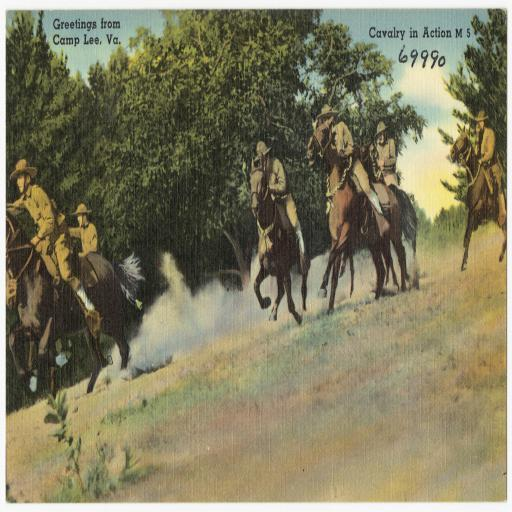horse: (0, 206, 146, 394), (306, 112, 420, 318), (248, 150, 312, 324), (450, 124, 508, 268)
